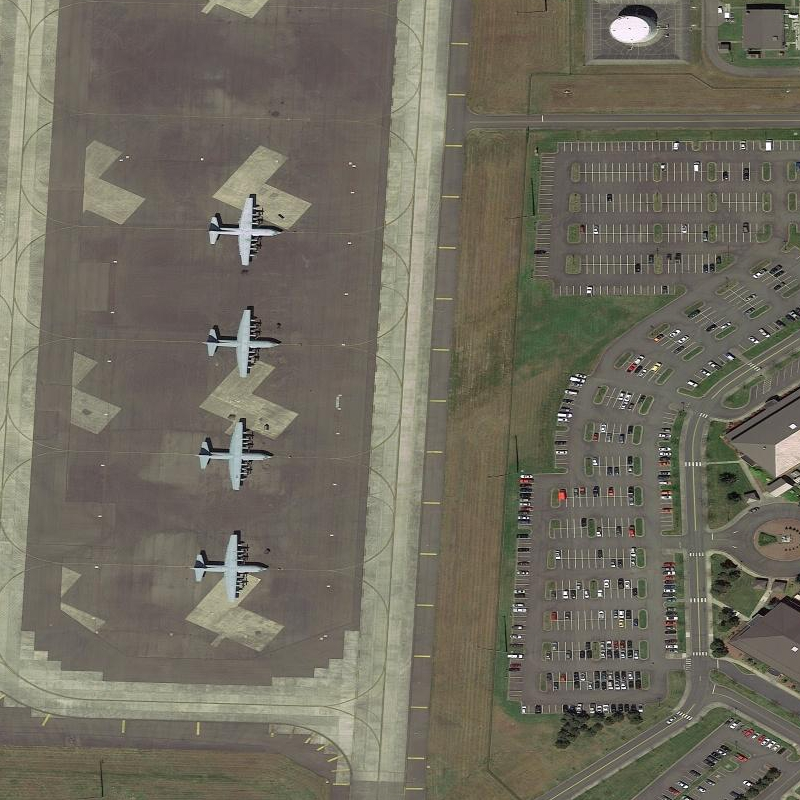A2: (198, 305, 282, 379), (191, 419, 274, 493), (204, 191, 282, 269), (186, 531, 270, 603)
